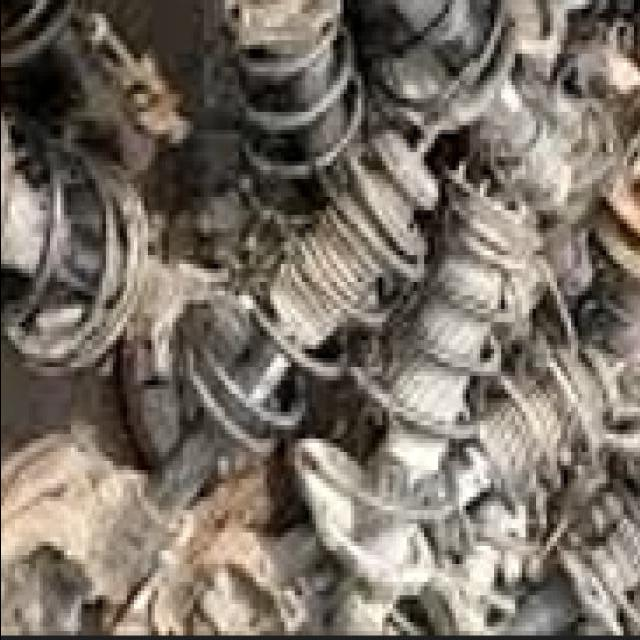shock absorber: (292, 164, 541, 636), (141, 124, 440, 510)
